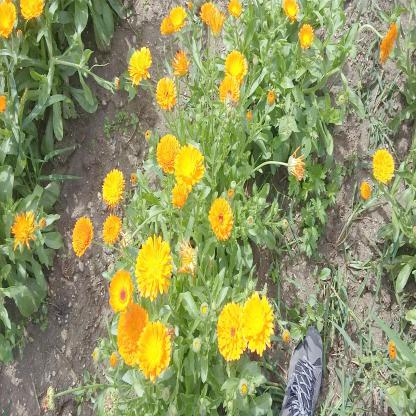marigold: (136, 235, 174, 297), (118, 309, 146, 365), (244, 299, 274, 350), (219, 305, 246, 356), (141, 322, 168, 370), (176, 144, 203, 187), (210, 197, 234, 238), (11, 212, 36, 250), (70, 219, 93, 255), (109, 272, 134, 304), (157, 135, 178, 171), (101, 168, 122, 203), (372, 150, 393, 183), (102, 214, 122, 246), (225, 50, 246, 80), (130, 47, 150, 78), (218, 77, 238, 108), (0, 2, 15, 37), (156, 77, 174, 106), (283, 0, 299, 24), (171, 5, 186, 29), (201, 2, 216, 26), (300, 24, 314, 48), (228, 0, 244, 18), (360, 180, 370, 199), (161, 17, 171, 34)
